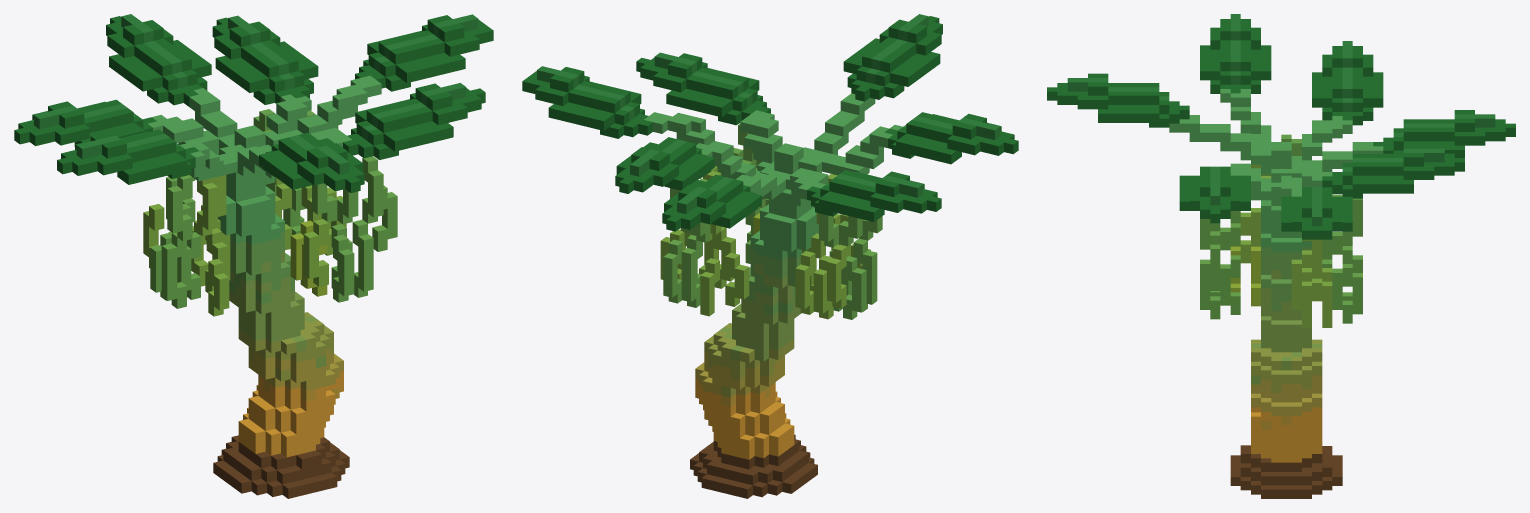
Rendered from Arbórea Exótica - Bananeira jovem.obj.
The picture shows the model from 3 angles, left to right: view 1: azimuth 30°, elevation 25°; view 2: azimuth 150°, elevation 25°; view 3: azimuth 270°, elevation 25°; orthographic projection. The views are drawn at different scales.
Size of the model in its own units: 4.8 by 4 by 4.6.
Materials: 1 (1 with a texture image).
